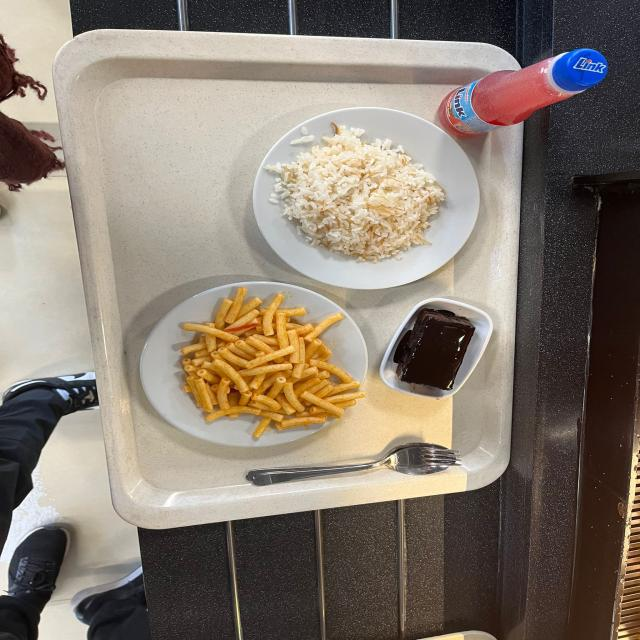ana_yemek: (252, 108, 476, 284), (140, 287, 370, 447)
yan_yemek: (378, 299, 492, 399)
